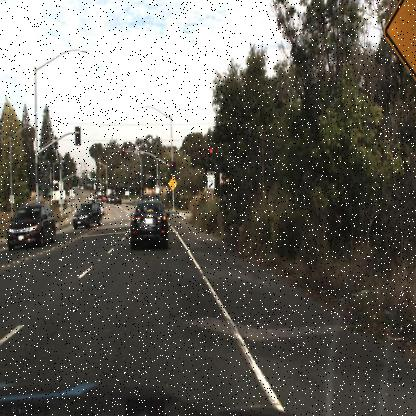car: (5, 201, 53, 252), (128, 201, 168, 251), (70, 199, 101, 233)
trafficLight-Red: (207, 144, 217, 172), (119, 143, 126, 161), (170, 159, 176, 177)
